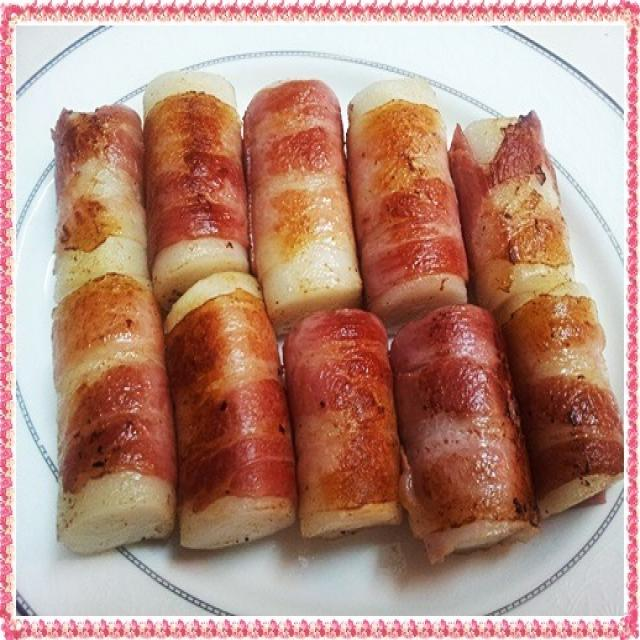Bacon Slice: (53, 80, 468, 286), (287, 296, 624, 524), (53, 274, 297, 506), (450, 110, 575, 276)
